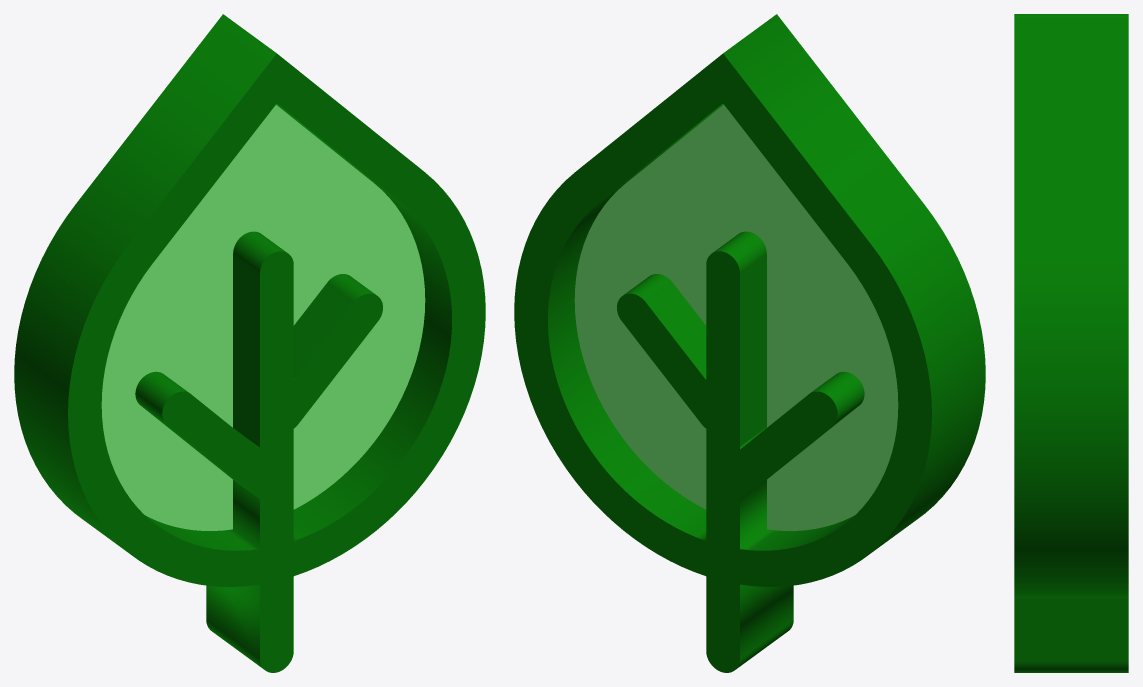
Rendered from leaf_in.gltf.
3 renders of one model, left to right at view 1: azimuth 30°, elevation 25°; view 2: azimuth 150°, elevation 25°; view 3: azimuth 270°, elevation 25°, orthographic. The views are drawn at different scales.
Visible parts, largest first — view 1: Curve.001, Curve; view 2: Curve.001, Curve; view 3: Curve.001.
Part boxes in pixels (<box>): Curve.001: <box>14,14,485,672</box>; Curve: <box>101,105,425,530</box>; Curve.001: <box>514,14,985,672</box>; Curve: <box>574,105,898,530</box>; Curve.001: <box>1014,14,1128,672</box>.
Size of the model in its own units: 0.3587 by 0.5079 by 0.08.
